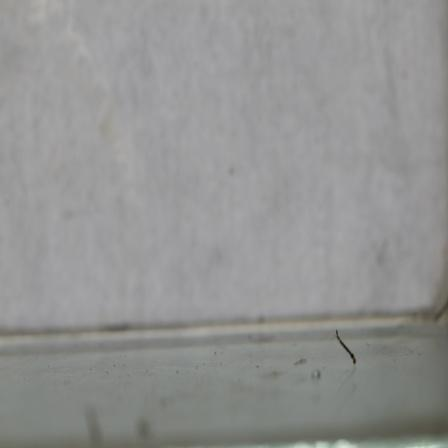Jentik-Nyamuk: (333, 326, 358, 366)
